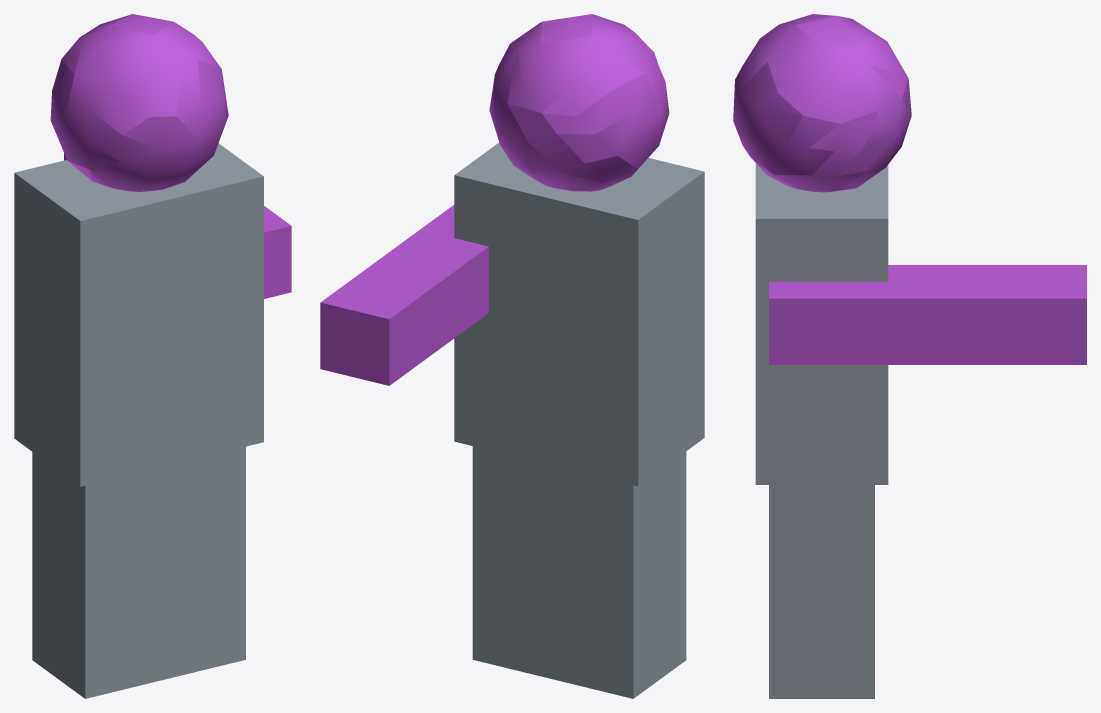
The model's file is CH_Hero_Voss_LOD2.glb.
3 views of the same model, side by side, from view 1: azimuth 30°, elevation 25°; view 2: azimuth 150°, elevation 25°; view 3: azimuth 270°, elevation 25° (orthographic).
Visible parts, largest first — view 1: Head; view 2: Head; view 3: Head.
Boxes of the visible parts, <box> form: Head: <box>14,14,291,698</box>; Head: <box>320,14,704,698</box>; Head: <box>733,14,1086,698</box>.
Size of the model in its own units: 61.75 by 173 by 86.81.
